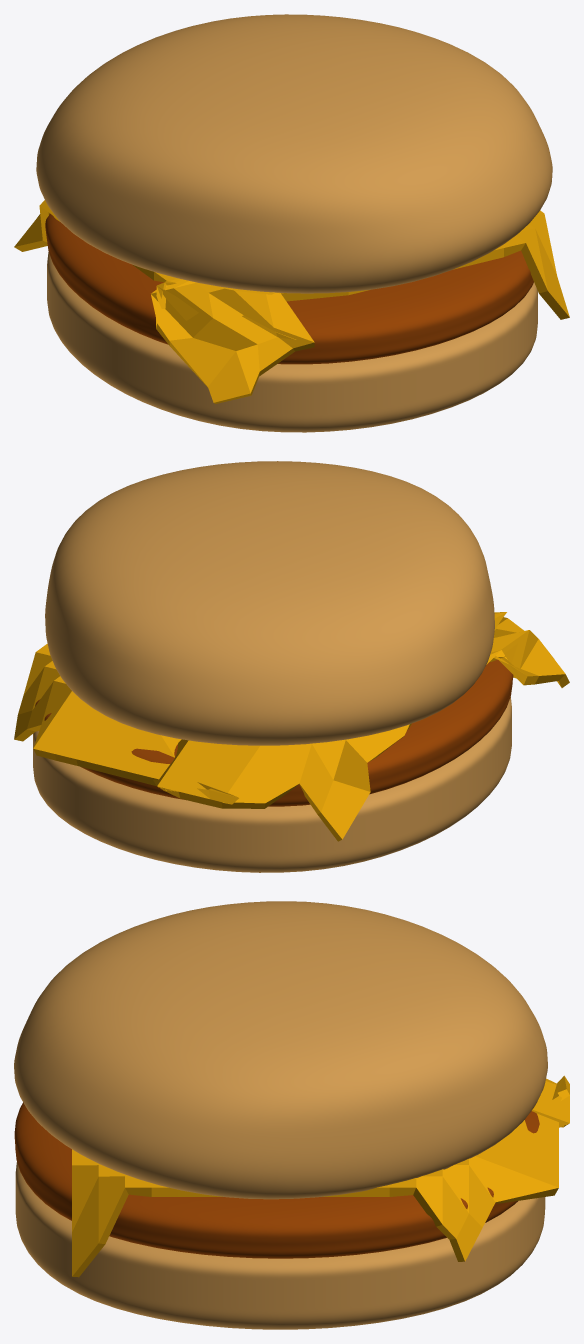
File: burger.glb
3 renders of one model, top to bottom at view 1: azimuth 30°, elevation 25°; view 2: azimuth 150°, elevation 25°; view 3: azimuth 270°, elevation 25°, orthographic. The views are drawn at different scales.
Visible parts, largest first — view 1: Tob Bun, Bottom Bun, Meat, Cheese; view 2: Tob Bun, Bottom Bun, Cheese, Meat; view 3: Tob Bun, Bottom Bun, Meat, Cheese.
Part boxes in pixels (x1=…): Tob Bun: x1=36, y1=14, x2=552, y2=293; Bottom Bun: x1=47, y1=252, x2=537, y2=432; Meat: x1=45, y1=213, x2=533, y2=364; Cheese: x1=14, y1=200, x2=569, y2=403; Tob Bun: x1=45, y1=461, x2=494, y2=745; Bottom Bun: x1=33, y1=697, x2=511, y2=872; Cheese: x1=14, y1=612, x2=569, y2=841; Meat: x1=35, y1=659, x2=513, y2=806; Tob Bun: x1=14, y1=901, x2=547, y2=1199; Bottom Bun: x1=15, y1=1162, x2=545, y2=1329; Meat: x1=14, y1=1102, x2=539, y2=1258; Cheese: x1=72, y1=1075, x2=569, y2=1277.
Bounding box in the file's own units: 48.25 × 30.36 × 52.48.
